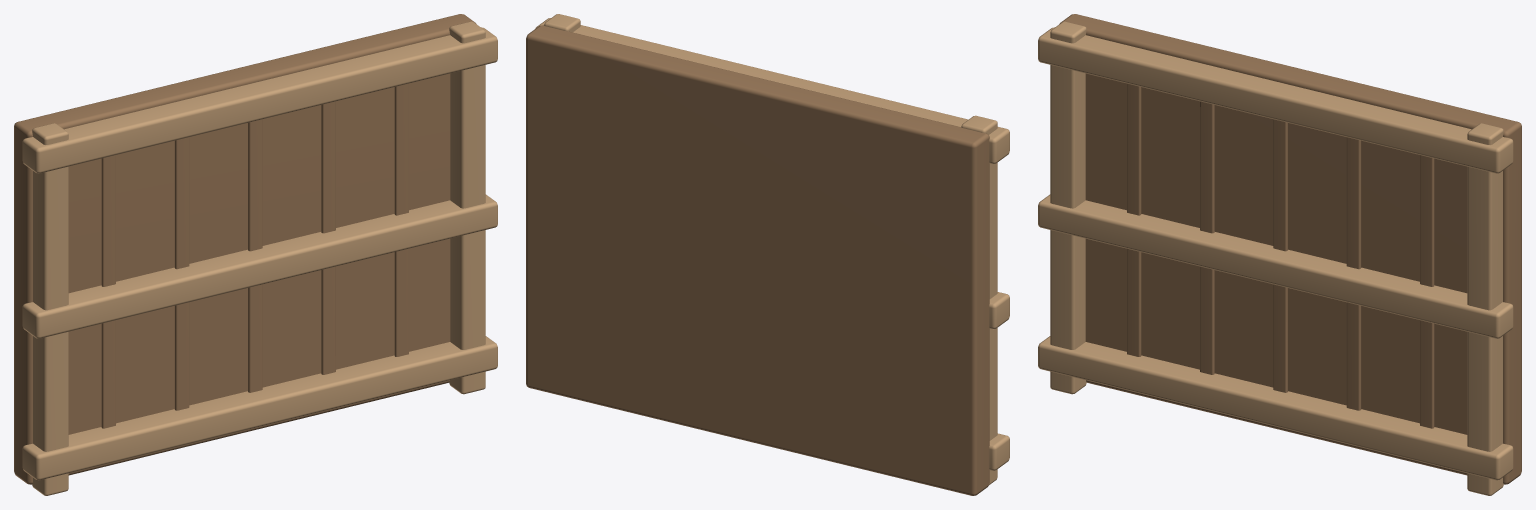
File: SM_Wall_Timber_4x3.fbx
3 renders of one model, left to right at view 1: azimuth 30°, elevation 25°; view 2: azimuth 150°, elevation 25°; view 3: azimuth 330°, elevation 25°, orthographic.
Visible parts, largest first — view 1: SM_Wall_Timber_4x3; view 2: SM_Wall_Timber_4x3; view 3: SM_Wall_Timber_4x3.
Boxes of the visible parts, x1,y1,x2,y2 form: SM_Wall_Timber_4x3: (14, 14, 497, 495); SM_Wall_Timber_4x3: (526, 14, 1009, 495); SM_Wall_Timber_4x3: (1038, 14, 1521, 495).
Size of the model in its own units: 4.1 by 3.05 by 0.47.
